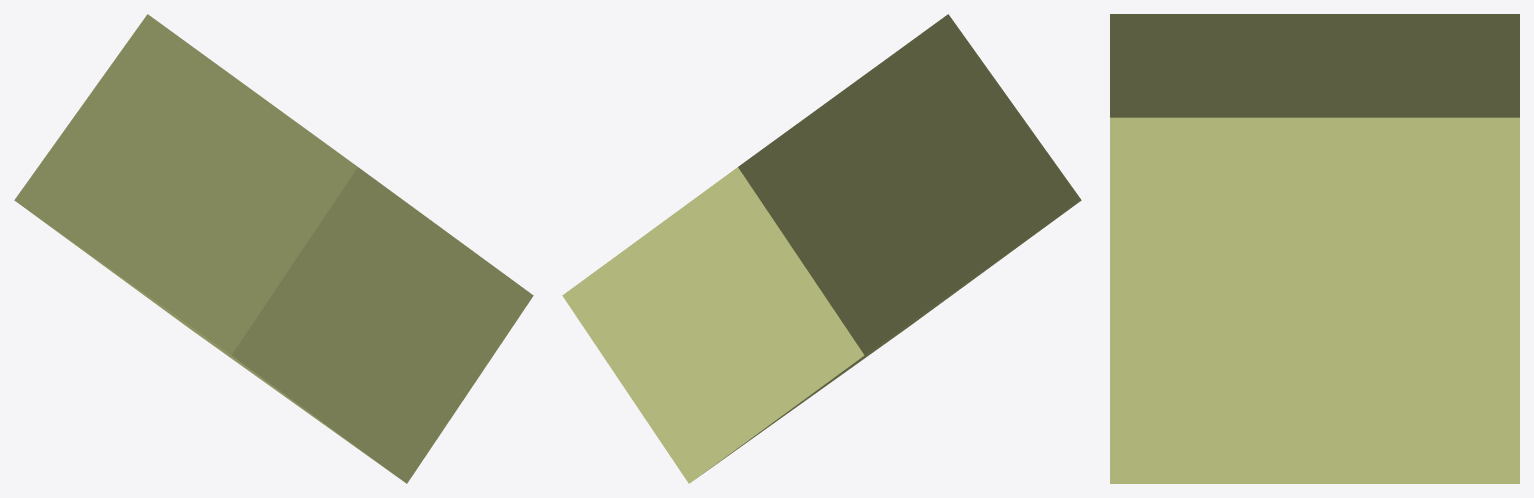
3 views of the same model, side by side, from view 1: azimuth 30°, elevation 25°; view 2: azimuth 150°, elevation 25°; view 3: azimuth 270°, elevation 25° (orthographic). The views are drawn at different scales.
Parts seen in each view (by area): view 1: 0_0_1_3_2_2_1_0_2_2; view 2: 0_0_1_3_2_2_1_0_2_2; view 3: 0_0_1_3_2_2_1_0_2_2.
Part boxes in pixels (<box>): 0_0_1_3_2_2_1_0_2_2: <box>14,14,533,483</box>; 0_0_1_3_2_2_1_0_2_2: <box>562,14,1081,483</box>; 0_0_1_3_2_2_1_0_2_2: <box>1110,14,1519,483</box>.
Bounding box in the file's own units: 10.17 × 10.23 × 9.
